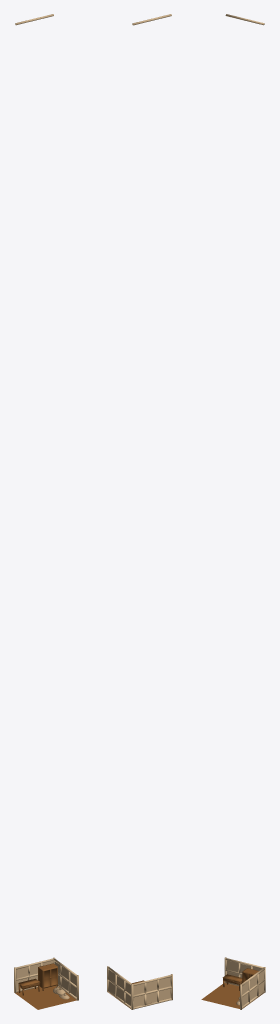
Rendered from Level1-ClYVS9XQ.glb.
The picture shows the model from 3 angles, left to right: view 1: azimuth 30°, elevation 25°; view 2: azimuth 210°, elevation 25°; view 3: azimuth 330°, elevation 25°; orthographic projection.
Visible parts, largest first — view 1: Tembok; view 2: Tembok; view 3: Tembok.
Boxes of the visible parts, x1,y1,x2,y2 form: Tembok: [14, 14, 78, 1009]; Tembok: [107, 14, 172, 1009]; Tembok: [201, 14, 265, 1009].
Bounding box in the file's own units: 4.03 × 91.4 × 4.23.
